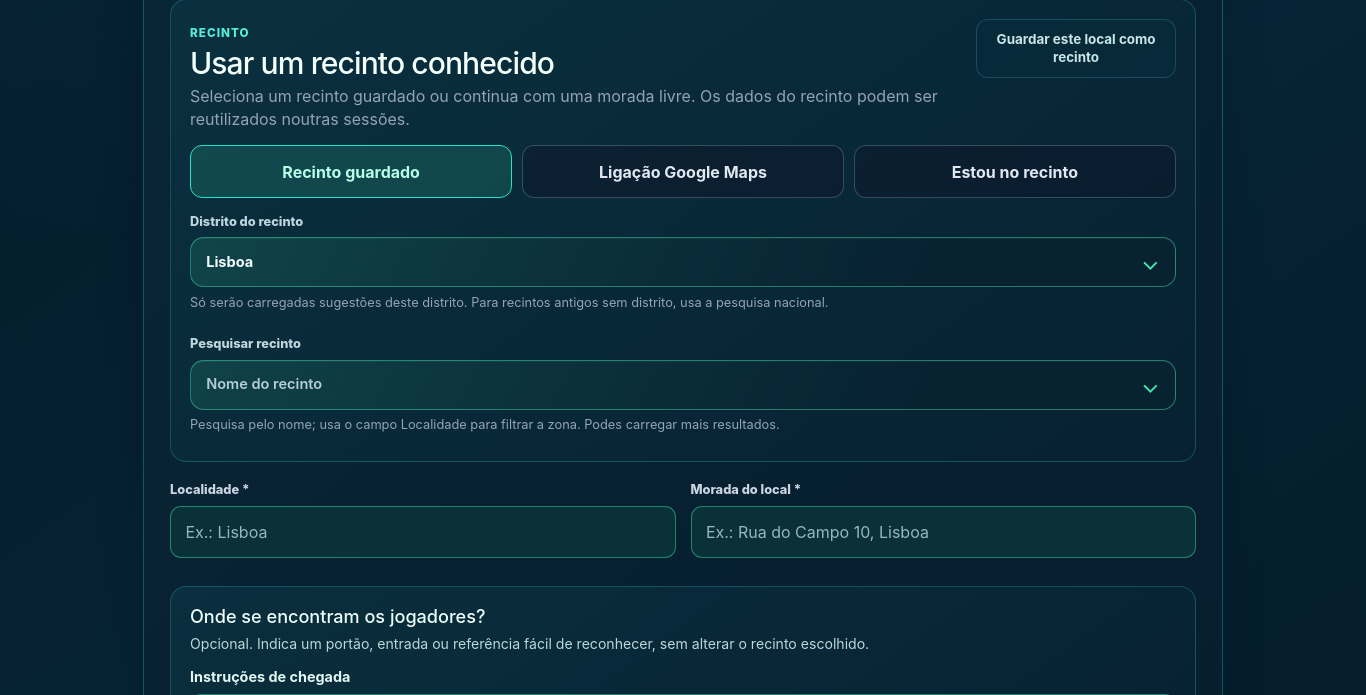
Events2Component › does not confuse venue name with its server id or accept stale selected venues
(page scrolled)
Click the dropdown labelled "Nome do recinto ⌄": [264, 384] box [190,360,1176,410]
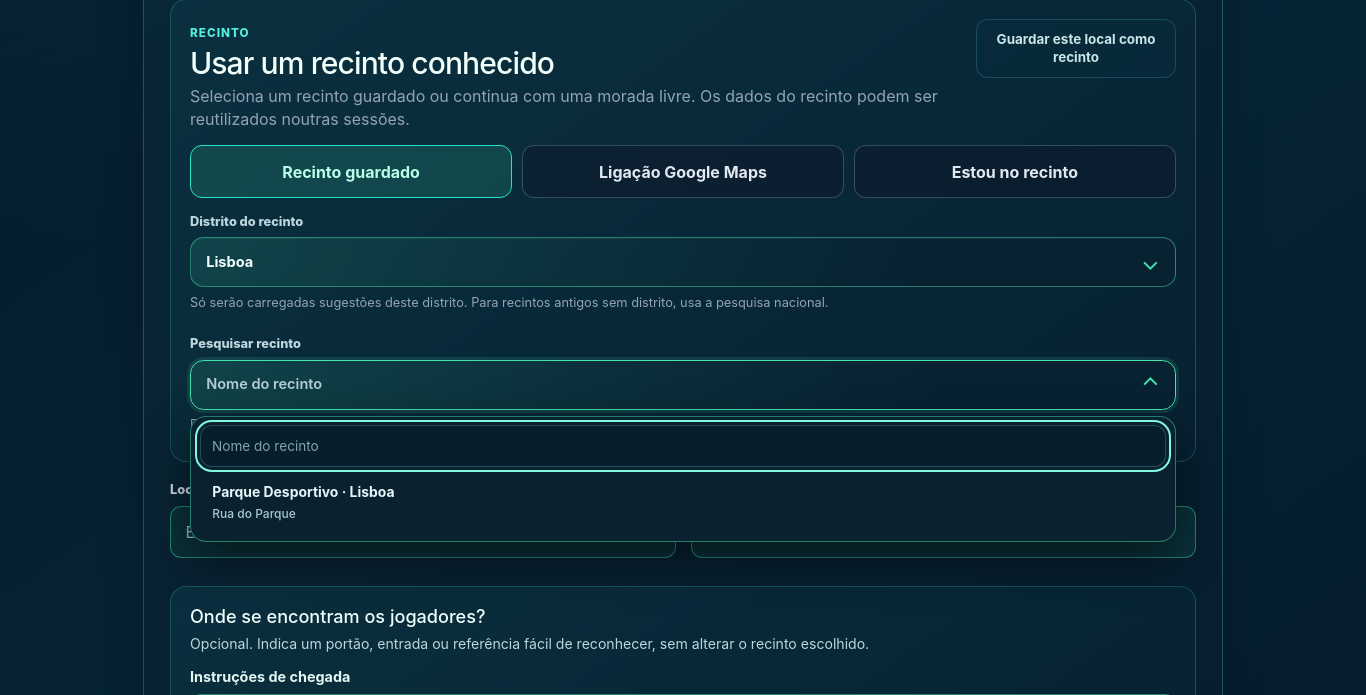
Now the text with class "jynlo-select__option-description" reads "Rua do Parque", box [212,506,296,521]
Click the option "Parque Desportivo · Lisboa Rua do Parque": [303, 492] box [200,473,1166,532]
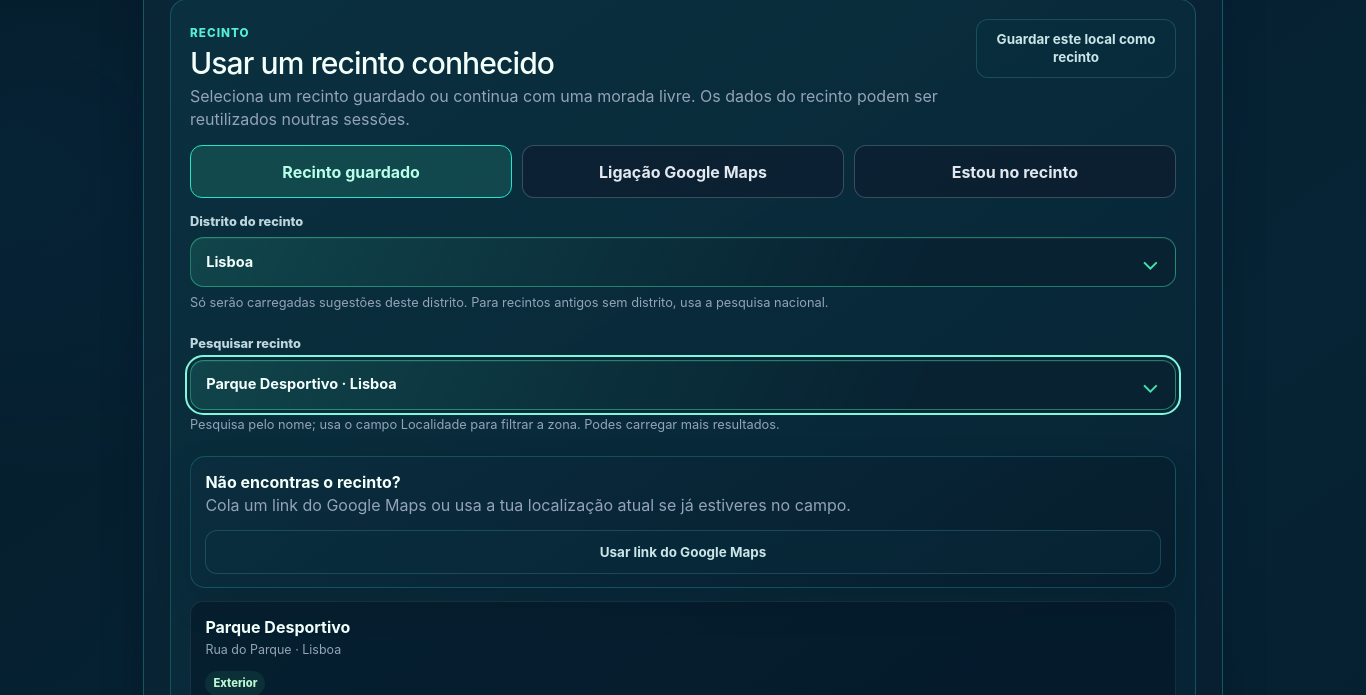
Now the dropdown labelled "Parque Desportivo · Lisboa ⌄" is shown, box [190,360,1176,410]
